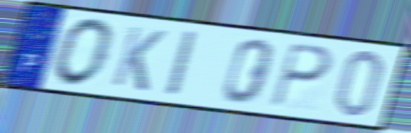0: (221, 37, 276, 106), (332, 49, 385, 119)
I: (164, 28, 200, 99)
K: (109, 23, 169, 94)
O: (51, 16, 118, 89)
P: (268, 41, 333, 110)
